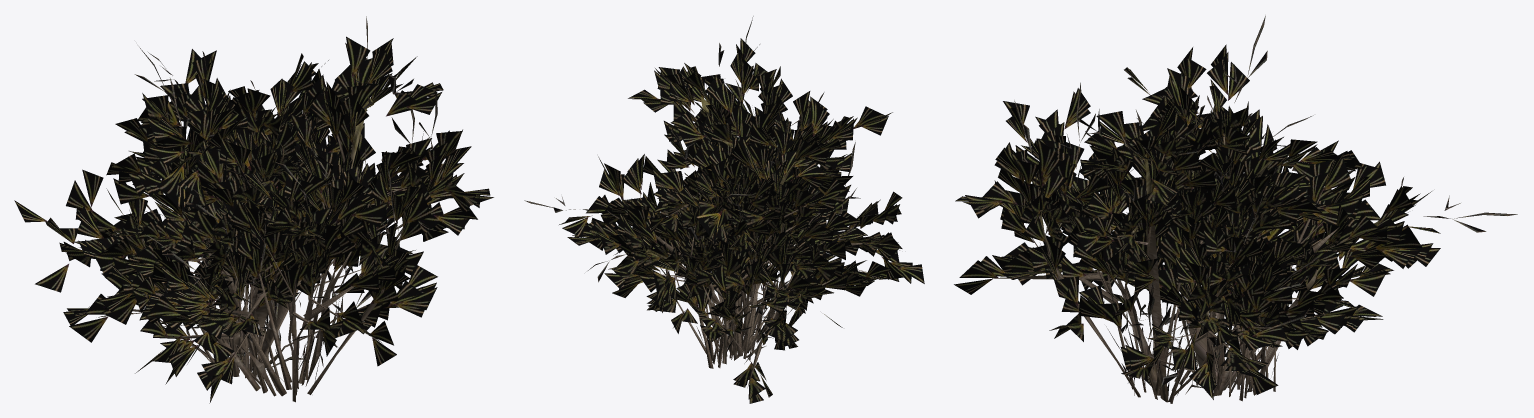
Rendered from wild_rooibos_bush.glb.
The picture shows the model from 3 angles, left to right: view 1: azimuth 30°, elevation 25°; view 2: azimuth 150°, elevation 25°; view 3: azimuth 270°, elevation 25°; orthographic projection. The views are drawn at different scales.
Parts seen in each view (by area): view 1: wild_rooibos_bush_a.001, wild_rooibos_bush_a; view 2: wild_rooibos_bush_a.001, wild_rooibos_bush_a; view 3: wild_rooibos_bush_a.001, wild_rooibos_bush_a.
Boxes of the visible parts, x1,y1,x2,y2 form: wild_rooibos_bush_a.001: (14,16,493,403); wild_rooibos_bush_a: (88,98,431,402); wild_rooibos_bush_a.001: (524,16,924,403); wild_rooibos_bush_a: (645,96,873,387); wild_rooibos_bush_a.001: (954,15,1517,399); wild_rooibos_bush_a: (992,110,1388,403).
Bounding box in the file's own units: 0.6612 × 0.5443 × 0.8388.
2 materials, 2 textured.
